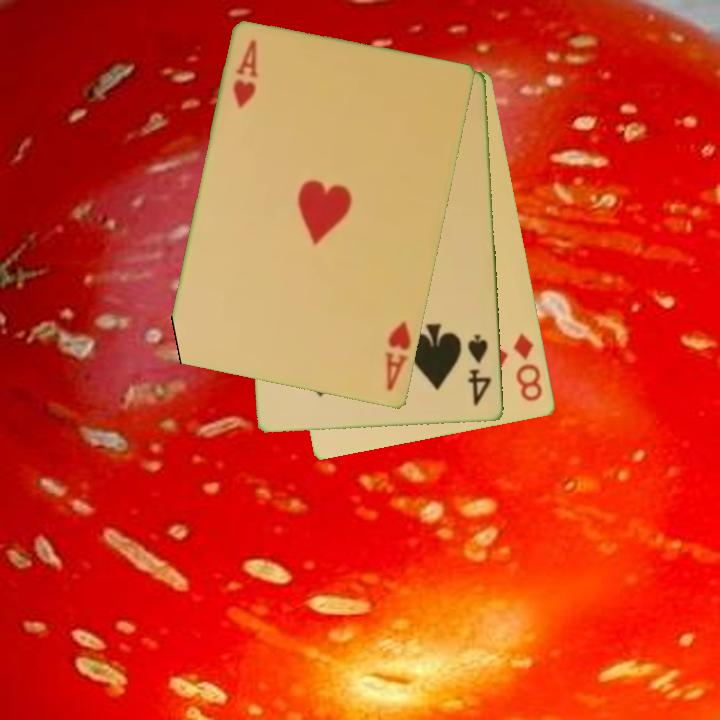4s: (464, 331, 494, 409)
8d: (510, 329, 546, 405)
Ah: (381, 317, 415, 395), (229, 36, 261, 113)
